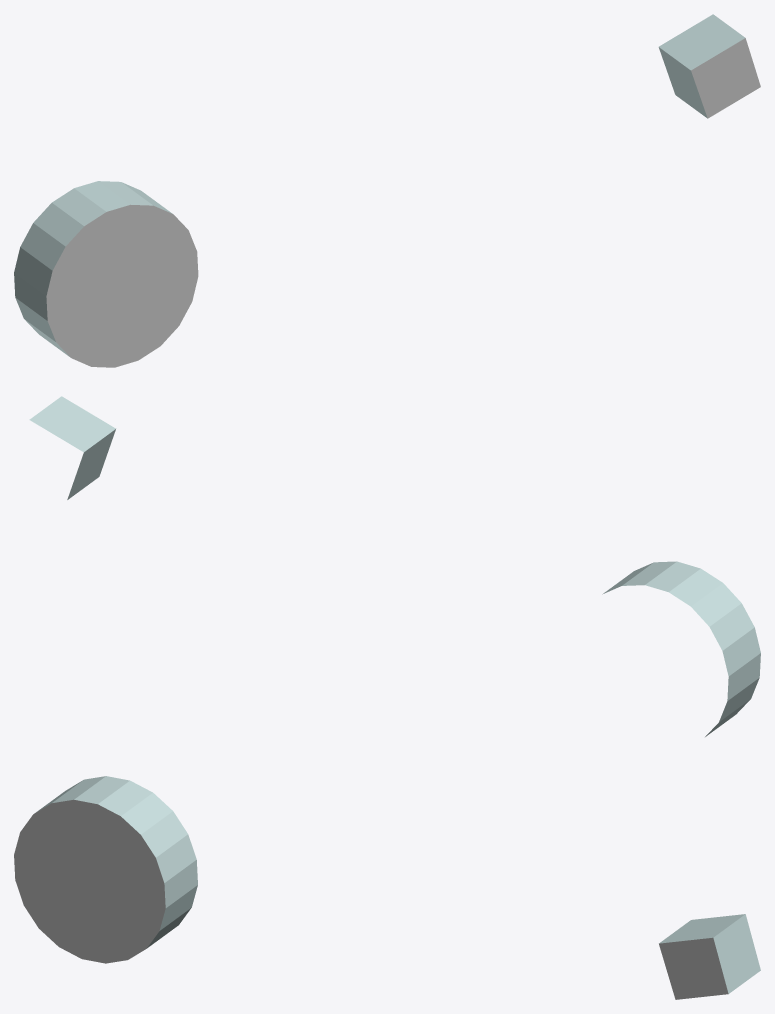
3 views of the same model, one above another, from view 1: azimuth 30°, elevation 25°; view 2: azimuth 150°, elevation 25°; view 3: azimuth 330°, elevation 25° (orthographic).
Visible parts, largest first — view 1: 0_2_2_3_2_1_0_3_1; view 2: 0_2_2_3_2_1_0_3_1; view 3: 0_2_2_3_2_1_0_3_1.
Part boxes in pixels (x1,y1,x2,y2): 0_2_2_3_2_1_0_3_1: [14, 14, 760, 367]; 0_2_2_3_2_1_0_3_1: [29, 396, 760, 736]; 0_2_2_3_2_1_0_3_1: [14, 776, 760, 999].
Size of the model in its own units: 38.19 by 8.93 by 3.08.
